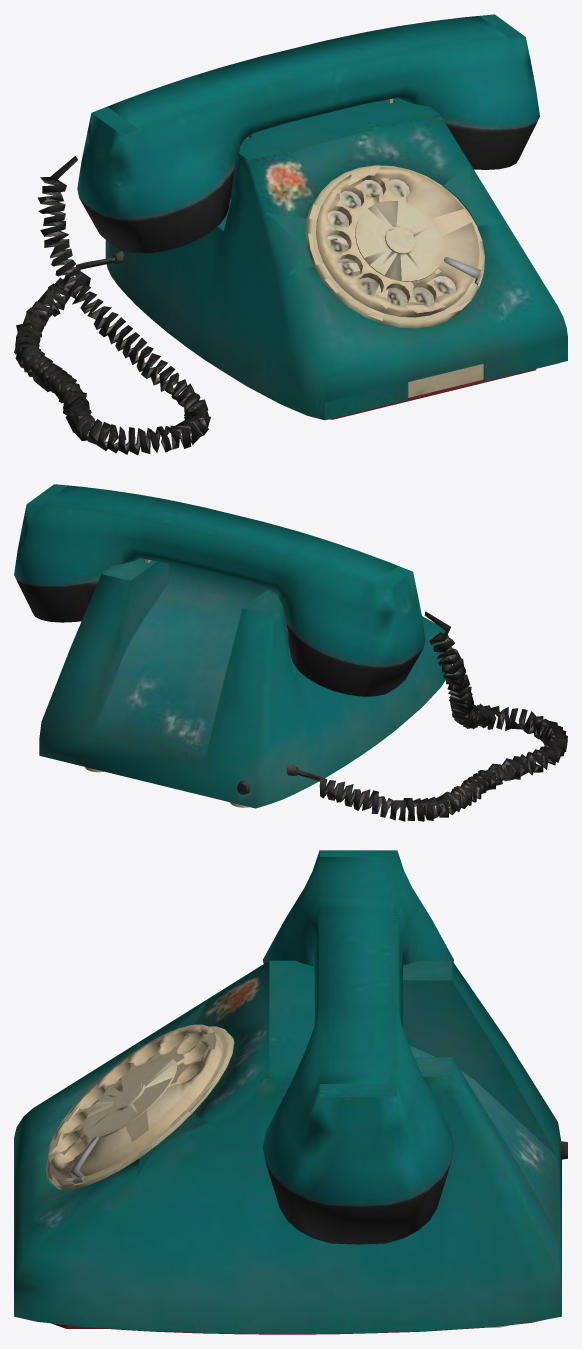
The model's file is item_phone_soviet.glb.
The picture shows the model from 3 angles, top to bottom: view 1: azimuth 30°, elevation 25°; view 2: azimuth 150°, elevation 25°; view 3: azimuth 270°, elevation 25°; orthographic projection. The views are drawn at different scales.
Visible parts, largest first — view 1: phone_soviet; view 2: phone_soviet; view 3: phone_soviet.
Part boxes in pixels (bbox=[...]): phone_soviet: bbox=[14, 14, 567, 455]; phone_soviet: bbox=[14, 484, 567, 821]; phone_soviet: bbox=[14, 850, 567, 1334].
Bounding box in the file's own units: 0.4538 × 0.2108 × 0.3314.
1 material, 1 textured.
